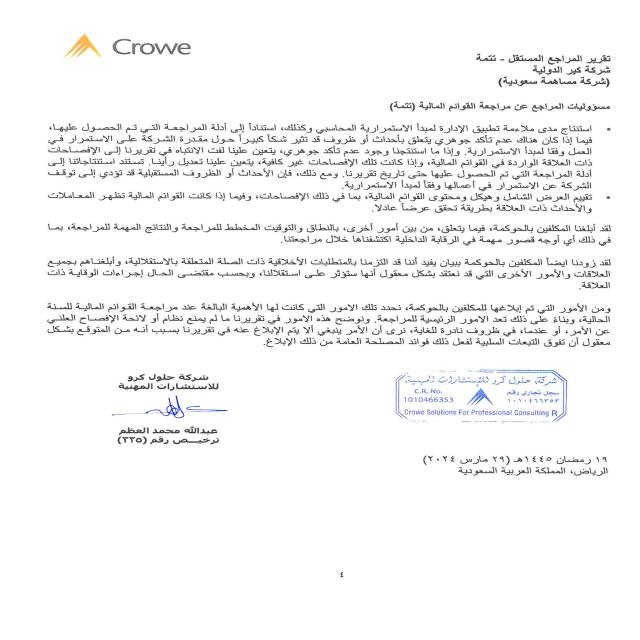auditor_report: (376, 102, 616, 115), (454, 51, 618, 65)
